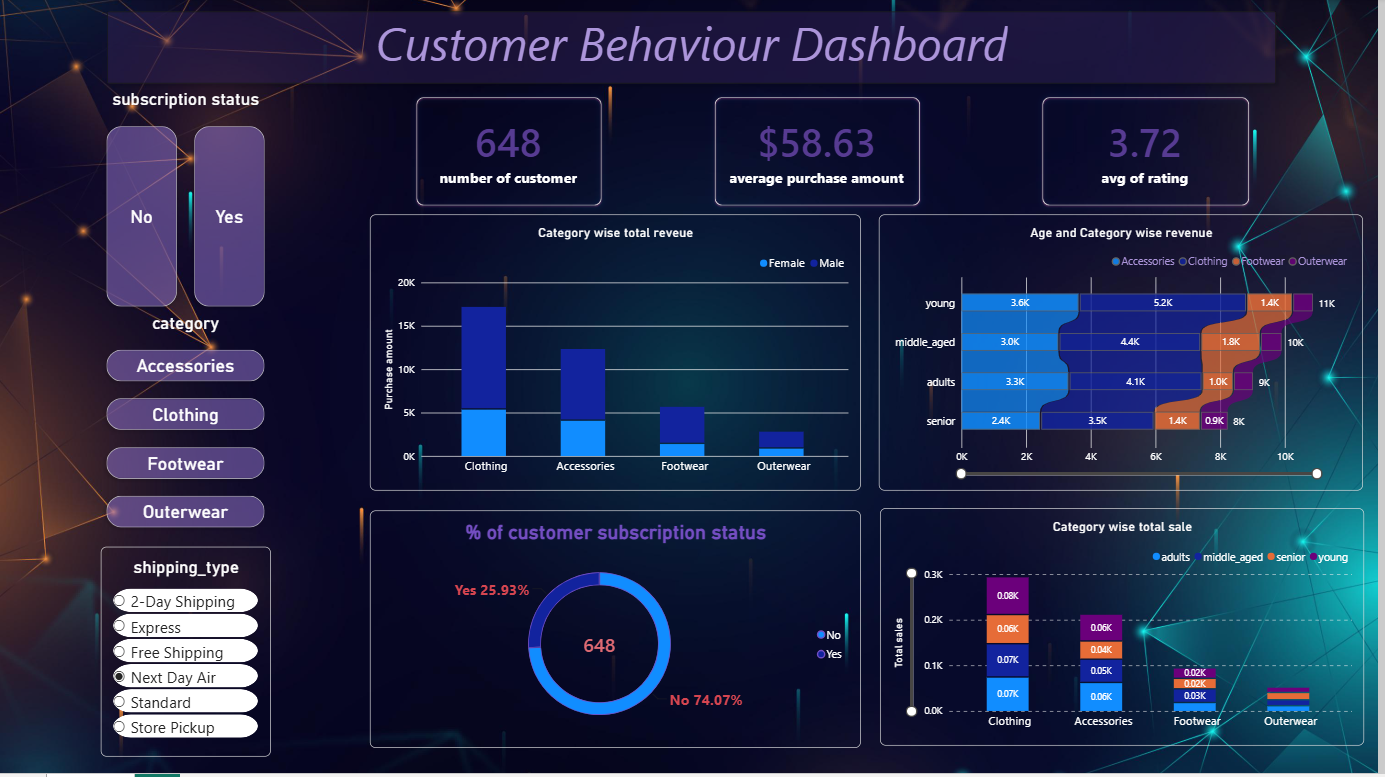

This screenshot's page, from the dashboard's own definition file:
{"tool":"powerbi","page":{"name":"Page 1","canvas":[1920,1080],"ordinal":0},"visuals":[{"type":"cardVisual","fields":{"Data":["customer_behaviour customer_analysis.number of customer"]},"box":[570.8,127.5,280.8,173.7],"z":0},{"type":"cardVisual","fields":{"Data":["customer_behaviour customer_analysis.average purchase amount"]},"box":[986.5,127.5,308.5,173.7],"z":1000},{"type":"cardVisual","fields":{"Data":["customer_behaviour customer_analysis.avg of rating"]},"box":[1442.8,127.5,310.4,173.7],"z":2000},{"type":"shape","box":[142.2,9.2,1646,118.2],"z":3000},{"type":"donutChart","title":"% of customer subscription status","fields":{"Category":["customer_behaviour customer_analysis.subscription_status"],"Y":["CountNonNull(customer_behaviour customer_analysis.customer_id)"]},"box":[517.3,713.1,683.5,330.7],"z":4000},{"type":"columnChart","title":"Category wise total reveue","fields":{"Category":["customer_behaviour customer_analysis.category"],"Series":["customer_behaviour customer_analysis.gender"],"Y":["Sum(customer_behaviour customer_analysis.purchase_amount)"]},"box":[517.3,301.1,683.5,384.2],"z":5000},{"type":"barChart","title":"Age and Category wise revenue","fields":{"Category":["customer_behaviour customer_analysis.age_category"],"Series":["customer_behaviour customer_analysis.category"],"Y":["Sum(customer_behaviour customer_analysis.purchase_amount)"]},"box":[1224.8,301.1,674.3,384.2],"z":6000},{"type":"columnChart","title":"Category wise total sale","fields":{"Category":["customer_behaviour customer_analysis.category"],"Series":["customer_behaviour customer_analysis.age_category"],"Y":["CountNonNull(customer_behaviour customer_analysis.customer_id)"]},"box":[1226.6,711.2,674.3,330.7],"z":7000},{"type":"advancedSlicerVisual","fields":{"Values":["customer_behaviour customer_analysis.subscription_status"]},"box":[142.2,127.5,236.5,310.4],"z":8000},{"type":"listSlicer","fields":{"Values":["customer_behaviour customer_analysis.shipping_type"]},"box":[142.2,764.8,236.5,291.9],"z":9000},{"type":"advancedSlicerVisual","fields":{"Values":["customer_behaviour customer_analysis.category"]},"box":[142.2,437.8,236.5,310.4],"z":9001}]}

Visuals, with their boxes in screenshot pixels (x1, y1, x2, y2), scaled from the page's 1920x1080 canvas onto the 1385x777 screenshot:
cardVisual - customer_behaviour customer_analysis.number of customer: [left=412, top=92, right=614, bottom=217]
cardVisual - customer_behaviour customer_analysis.average purchase amount: [left=712, top=92, right=934, bottom=217]
cardVisual - customer_behaviour customer_analysis.avg of rating: [left=1041, top=92, right=1265, bottom=217]
shape: [left=103, top=7, right=1290, bottom=92]
"% of customer subscription status" donutChart: [left=373, top=513, right=866, bottom=751]
"Category wise total reveue" columnChart: [left=373, top=217, right=866, bottom=493]
"Age and Category wise revenue" barChart: [left=884, top=217, right=1370, bottom=493]
"Category wise total sale" columnChart: [left=885, top=512, right=1371, bottom=750]
advancedSlicerVisual - customer_behaviour customer_analysis.subscription_status: [left=103, top=92, right=273, bottom=315]
listSlicer - customer_behaviour customer_analysis.shipping_type: [left=103, top=550, right=273, bottom=760]
advancedSlicerVisual - customer_behaviour customer_analysis.category: [left=103, top=315, right=273, bottom=538]
